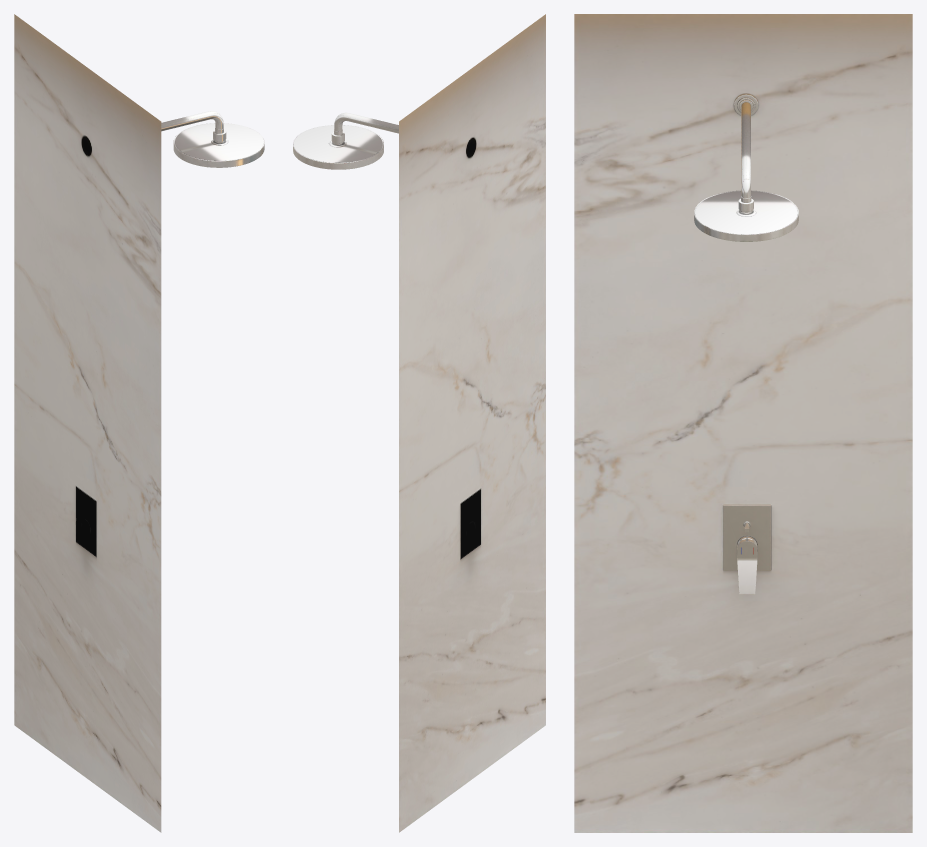
The picture shows the model from 3 angles, left to right: view 1: azimuth 30°, elevation 25°; view 2: azimuth 150°, elevation 25°; view 3: azimuth 270°, elevation 25°; orthographic projection. The views are drawn at different scales.
Parts seen in each view (by area): view 1: f160125; view 2: f160125; view 3: f160125.
Part boxes in pixels (<box>): f160125: <box>14,14,264,832</box>; f160125: <box>293,14,545,832</box>; f160125: <box>574,14,912,832</box>.
Size of the model in its own units: 0.7594 by 3 by 1.12.
Materials: 1 (1 with a texture image).
